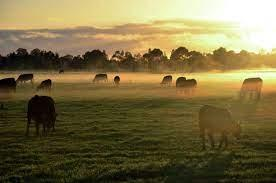cow: (198, 106, 243, 150), (24, 95, 58, 139), (237, 77, 264, 103), (34, 78, 53, 94), (14, 72, 34, 87), (0, 78, 17, 93), (182, 78, 197, 95), (159, 75, 174, 89), (176, 76, 187, 93), (93, 73, 107, 86), (115, 75, 121, 87), (59, 70, 65, 73)
